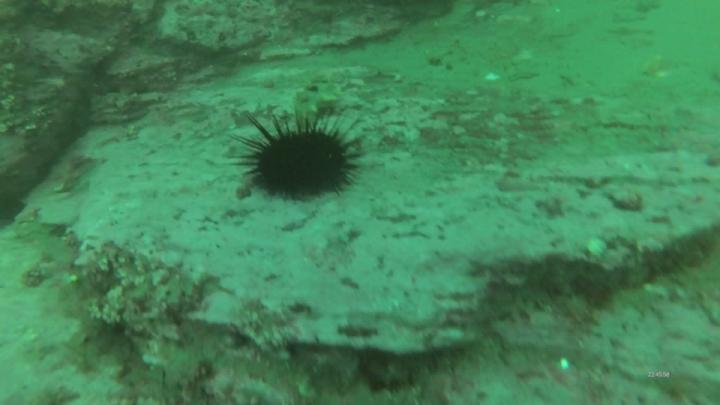echinus: (223, 110, 369, 203)
